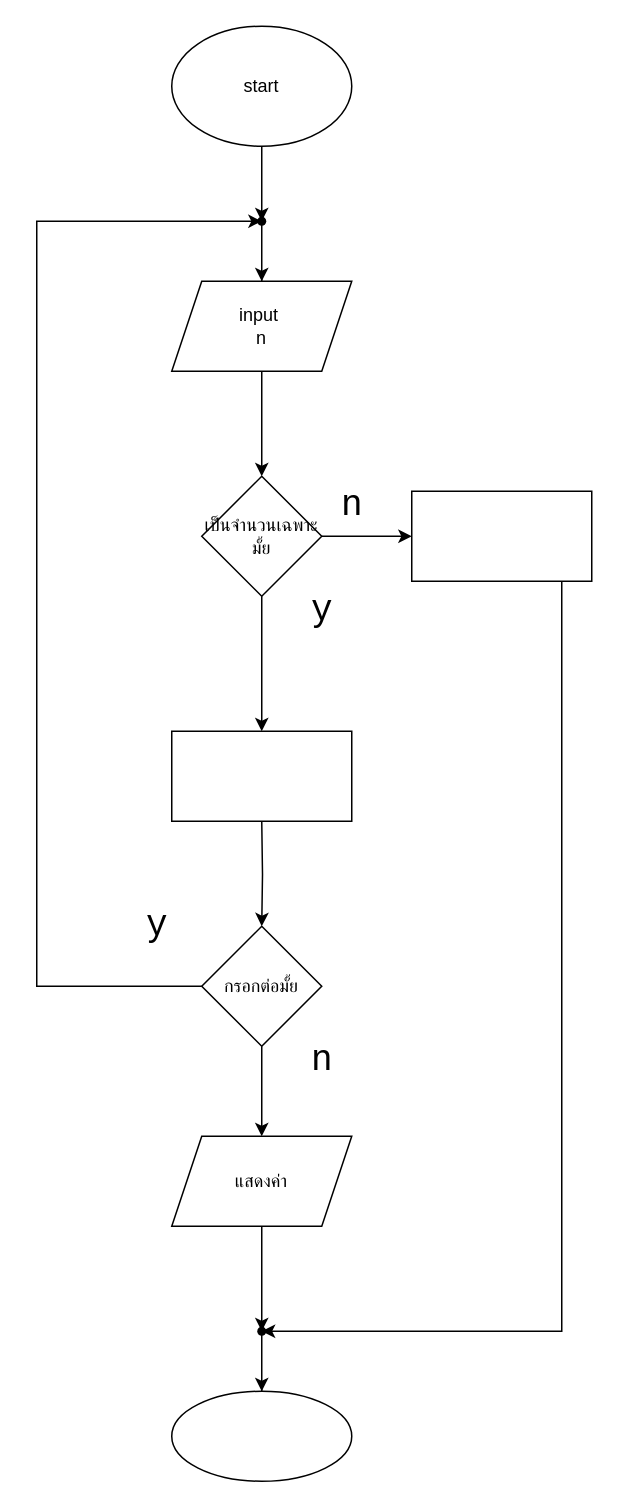
This 618x1508 diagram has some shape labels left out. The shapes that lost their labels are listed below. From the top down, each one's centre as x and y in pixels, then its label:
At point 501,535: "ไม่เก็บค่า".
At point 261,775: "เก็บค่าไว้".
At point 261,1435: "จบ".
